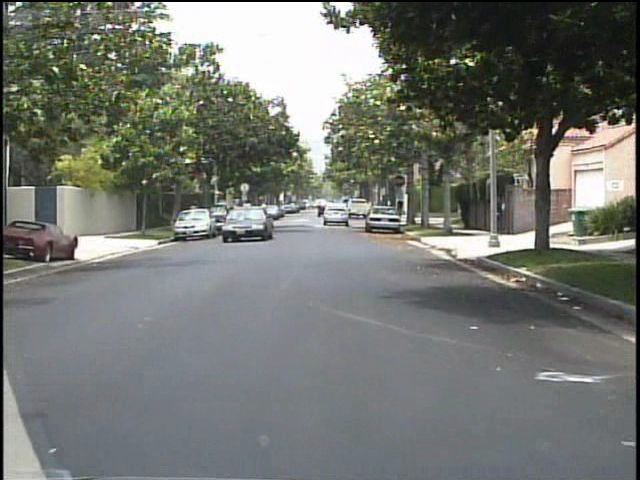person: (493, 192, 512, 237), (186, 200, 203, 232)
